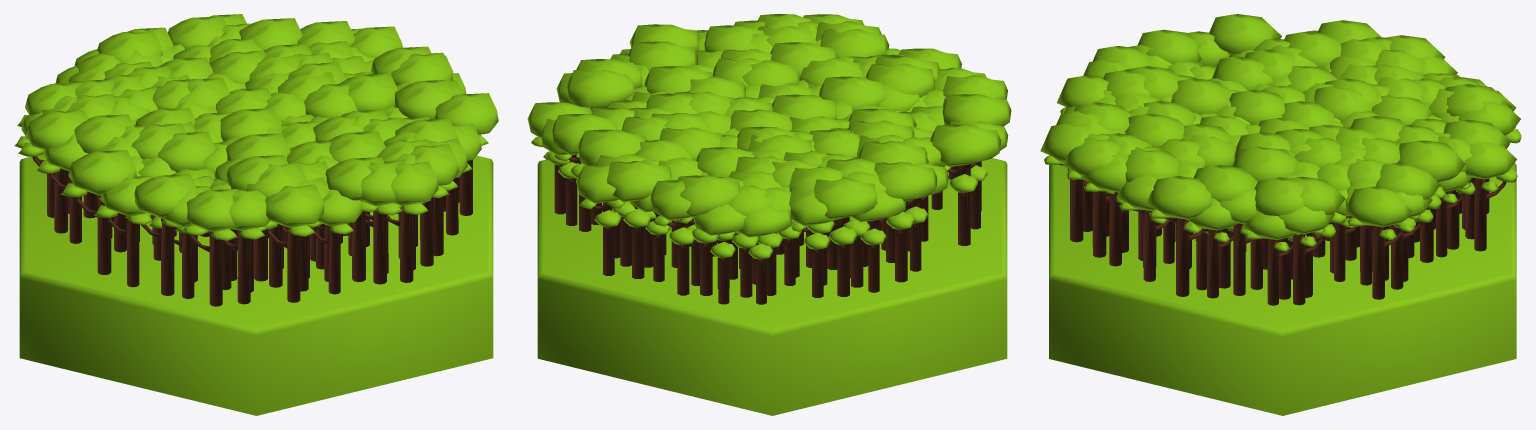
The model's file is jungle_full.glb.
The picture shows the model from 3 angles, left to right: view 1: azimuth 30°, elevation 25°; view 2: azimuth 150°, elevation 25°; view 3: azimuth 270°, elevation 25°; orthographic projection.
Visible parts, largest first — view 1: Jungle_Full; view 2: Jungle_Full; view 3: Jungle_Full.
Part boxes in pixels (box(x1,y1,x2,y2)): Jungle_Full: box(14, 14, 498, 415); Jungle_Full: box(527, 14, 1011, 415); Jungle_Full: box(1040, 14, 1521, 415).
Bounding box in the file's own units: 1.16 × 0.48 × 1.03.
